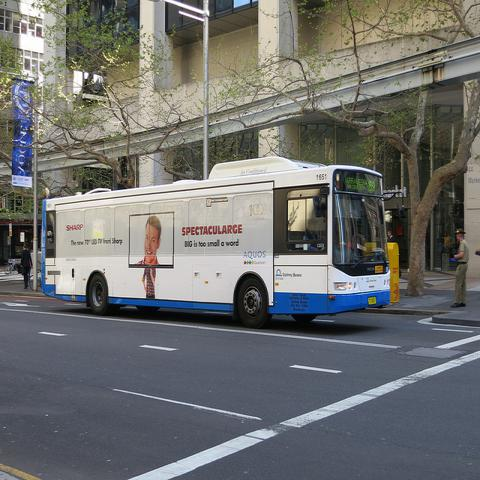bus: (38, 154, 393, 330)
